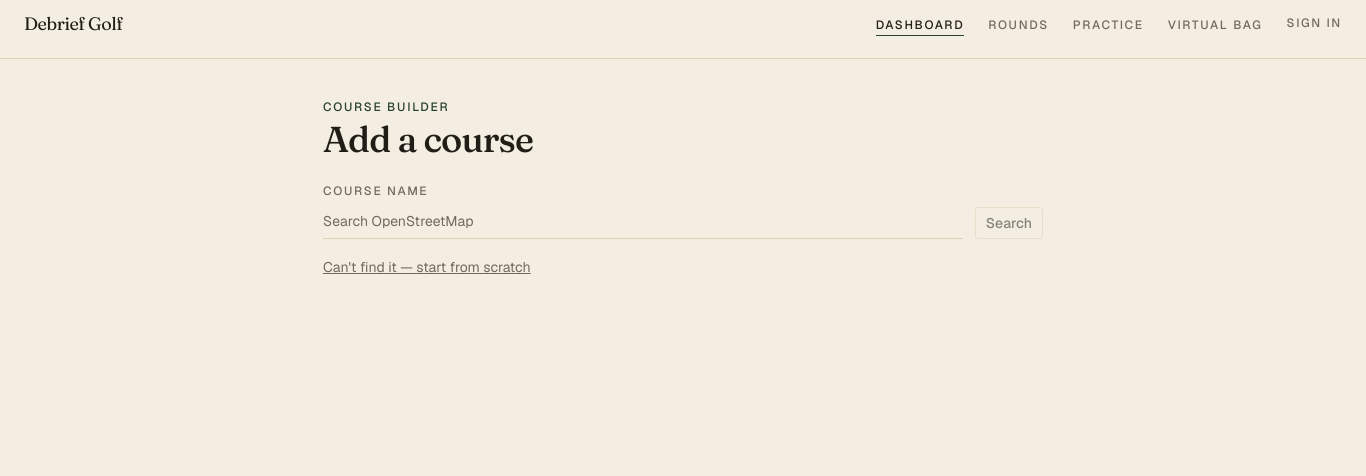
Test: NewCoursePage › enables Save once name and a complete hole are provided, then saves
Click the button "Can't find it — start from scratch".
click(427, 267)  # box [323,257,531,277]
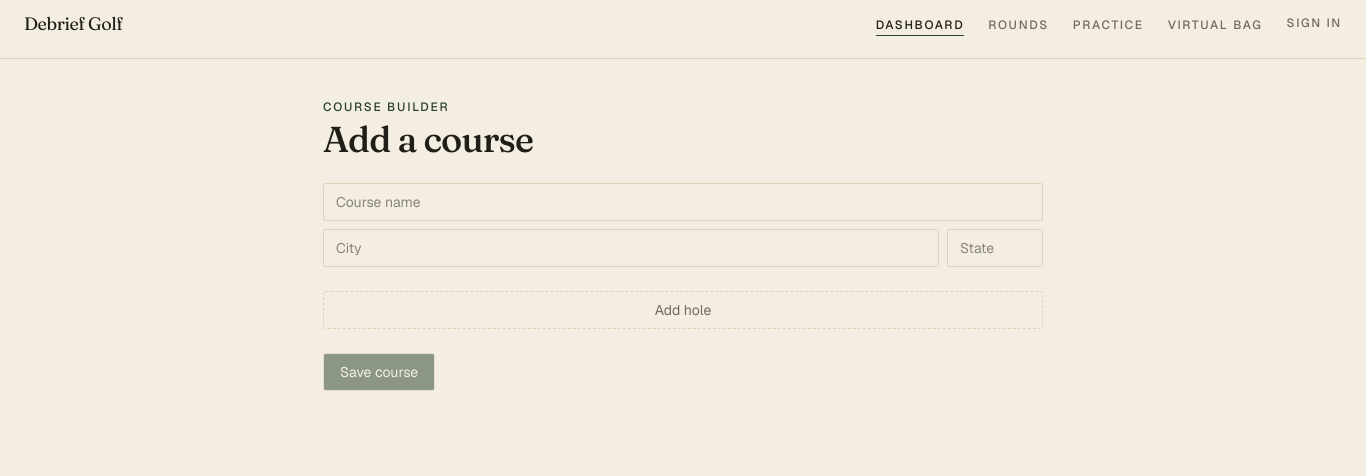
Type "My New Course" into the field labelled "Course name".
click(683, 202); type("My New Course")  # box [323,183,1043,221]
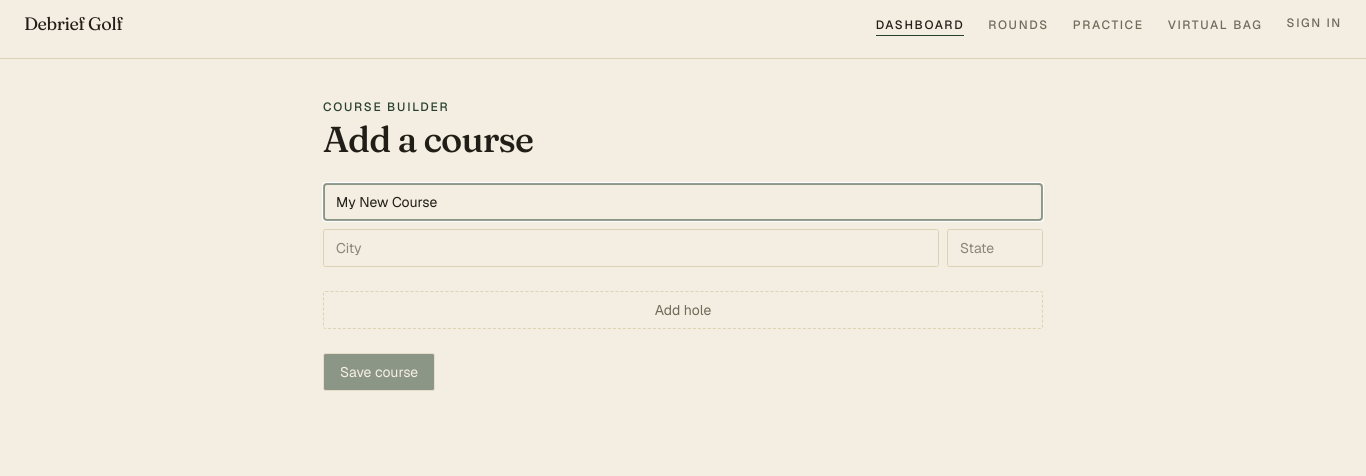
Click the button "Add hole".
click(683, 310)  # box [323,291,1043,329]
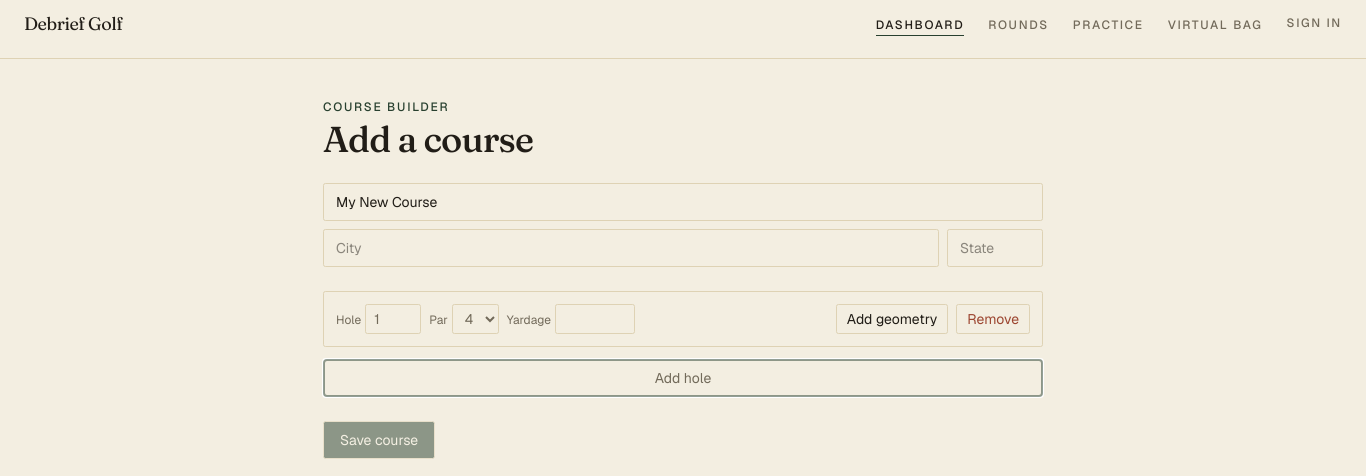
Type "400" into the number field labelled "Yardage".
click(595, 319); type("400")  # box [555,304,635,334]
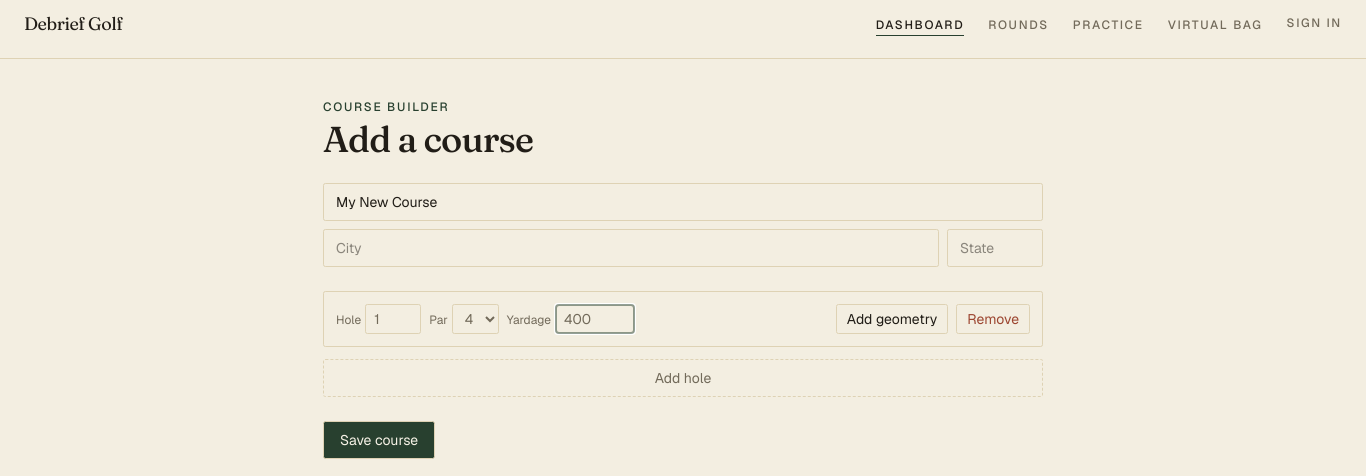
Check: the button "Save course" is enabled
Click the button "Save course".
click(379, 440)  # box [323,421,435,459]
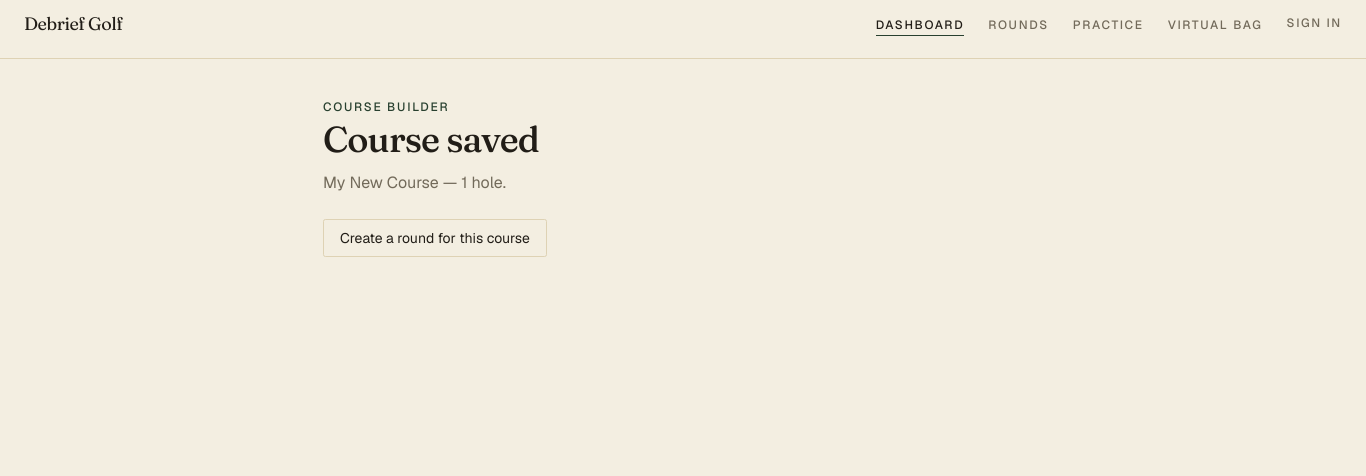
Check: the heading "Course saved" is shown, box [323,117,539,161]
